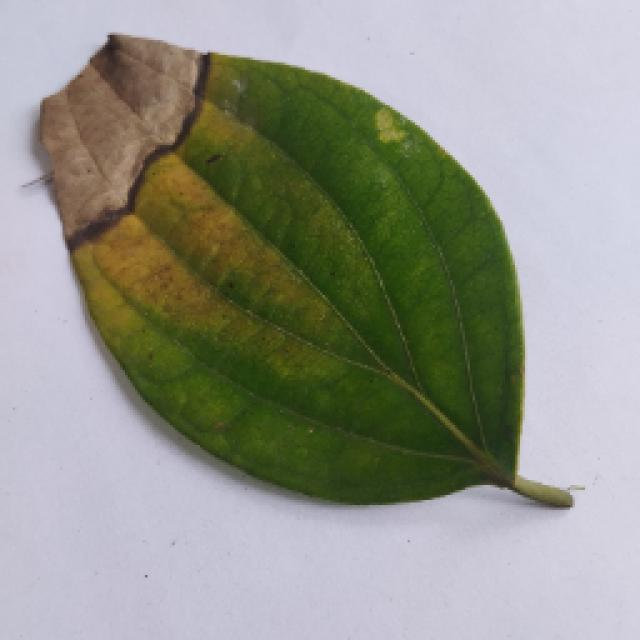footrot: (15, 40, 580, 515)
